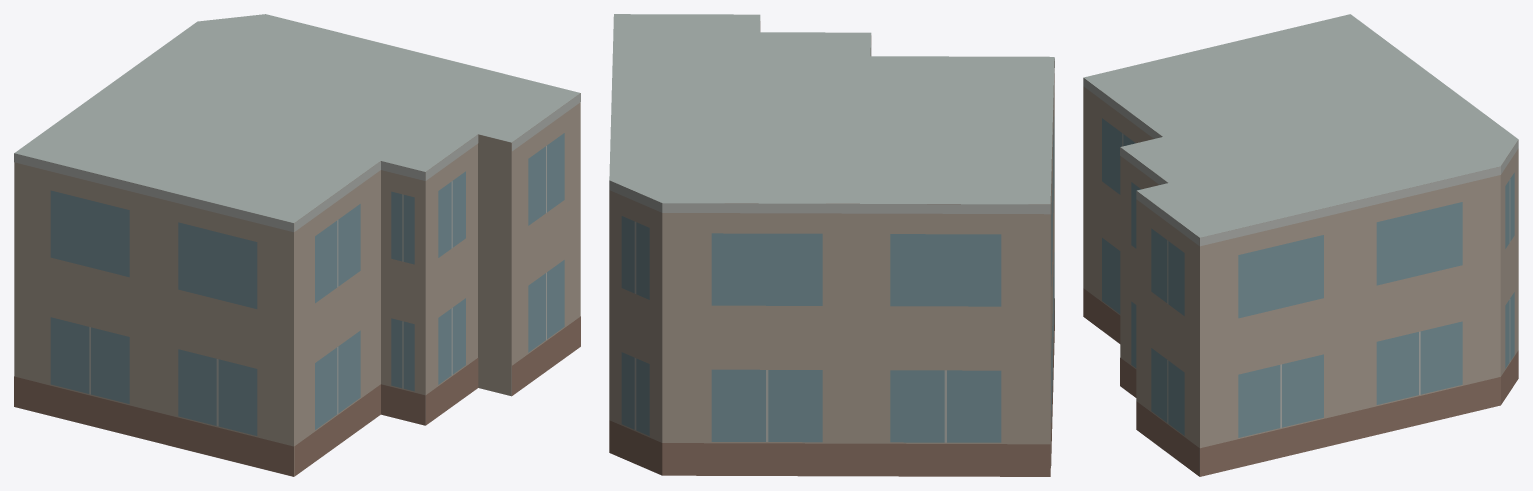
File: survey-upis-32735206.glb
3 views of the same model, side by side, from view 1: azimuth 30°, elevation 25°; view 2: azimuth 150°, elevation 25°; view 3: azimuth 270°, elevation 25° (orthographic). The views are drawn at different scales.
Parts seen in each view (by area): view 1: survey-upis-32735206.tmp; view 2: survey-upis-32735206.tmp; view 3: survey-upis-32735206.tmp.
Boxes of the visible parts, x1,y1,x2,y2 form: survey-upis-32735206.tmp: (14, 14, 580, 476); survey-upis-32735206.tmp: (609, 14, 1054, 476); survey-upis-32735206.tmp: (1083, 14, 1518, 476).
Bounding box in the file's own units: 13.66 × 6.8 × 11.23.
